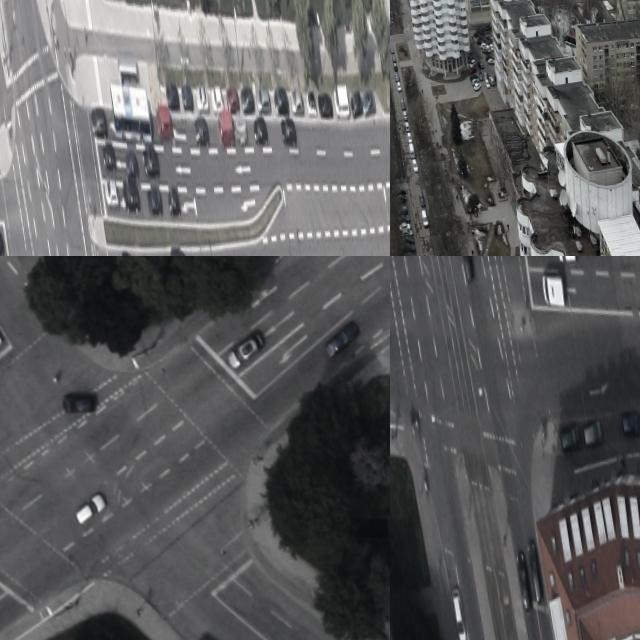UAI: (222, 330, 268, 372), (321, 318, 364, 360), (71, 491, 109, 527), (515, 550, 534, 612), (527, 540, 545, 604), (62, 390, 98, 415), (452, 587, 467, 640), (155, 105, 174, 144), (122, 179, 142, 215), (216, 112, 236, 148), (559, 424, 582, 455), (332, 83, 350, 119), (582, 419, 604, 448), (89, 105, 108, 138), (279, 115, 298, 148), (142, 148, 161, 180), (146, 183, 164, 216), (103, 176, 120, 210), (620, 411, 640, 439), (255, 84, 271, 117), (193, 117, 210, 147), (252, 116, 269, 146), (273, 86, 290, 116), (101, 142, 117, 173), (240, 85, 256, 116), (317, 91, 334, 120), (225, 85, 240, 115), (361, 90, 377, 117), (457, 256, 474, 281), (167, 189, 182, 217), (210, 84, 224, 114), (195, 85, 210, 113), (125, 151, 139, 179), (349, 89, 363, 117), (166, 83, 180, 110), (181, 84, 194, 112), (291, 91, 304, 116), (236, 119, 248, 146), (306, 90, 318, 116), (401, 235, 416, 247), (402, 243, 416, 255), (0, 225, 5, 256), (556, 256, 578, 263), (170, 248, 189, 256), (398, 213, 411, 224), (397, 206, 409, 217), (399, 222, 412, 232), (401, 229, 414, 239), (418, 192, 426, 208), (412, 159, 420, 174), (395, 187, 407, 197), (120, 249, 136, 256), (396, 195, 408, 204), (468, 66, 478, 76), (407, 132, 414, 145), (473, 82, 482, 92), (470, 77, 480, 86), (484, 78, 491, 90), (470, 74, 479, 83), (489, 76, 496, 87), (403, 110, 409, 122), (400, 99, 406, 111), (483, 70, 489, 82), (403, 251, 417, 256), (477, 60, 484, 70), (396, 81, 402, 92), (395, 72, 401, 83), (393, 62, 399, 72), (405, 122, 410, 132), (479, 71, 484, 81), (390, 45, 395, 54), (392, 55, 397, 63), (390, 20, 394, 27), (390, 17, 394, 23)
car: (109, 78, 154, 146)
harvester: (540, 271, 567, 309), (421, 209, 430, 229), (408, 143, 416, 159)
